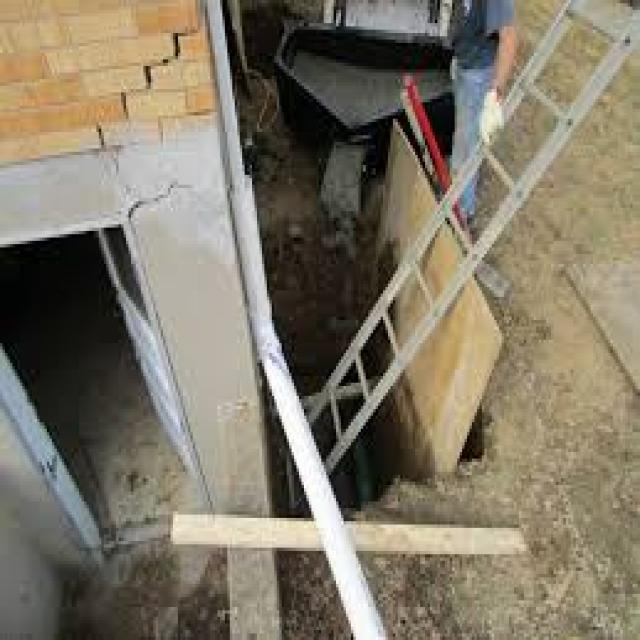Crack: (92, 16, 200, 142), (121, 175, 190, 211)
